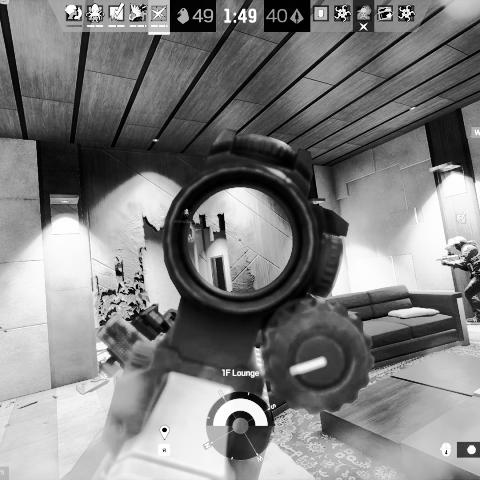Character: (435, 235, 480, 324)
Friend_label: (442, 210, 480, 235), (170, 207, 206, 225)
Head: (452, 236, 467, 250)
